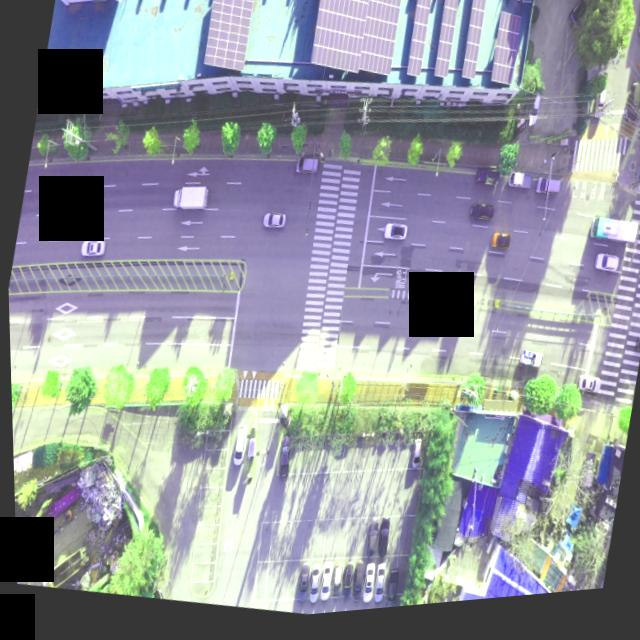car: (228, 430, 247, 473), (272, 440, 291, 483), (622, 94, 640, 138), (564, 9, 587, 43), (372, 527, 390, 567), (313, 566, 330, 608), (531, 186, 560, 210), (593, 265, 621, 289), (468, 209, 496, 233), (303, 570, 320, 609), (293, 570, 310, 609), (381, 575, 398, 613), (357, 569, 373, 609), (294, 161, 320, 185), (369, 571, 385, 610), (361, 527, 377, 564), (325, 569, 342, 603), (525, 103, 542, 137), (381, 228, 406, 251), (79, 240, 104, 263), (575, 384, 600, 407), (261, 215, 286, 237), (338, 569, 353, 605), (347, 568, 362, 602), (487, 239, 510, 261), (407, 446, 420, 477), (594, 104, 608, 132), (635, 11, 640, 48), (632, 349, 640, 367)
large_bus: (589, 225, 640, 261)
medium_truck: (41, 539, 92, 595), (170, 182, 209, 217)
small_truck: (576, 461, 596, 503), (505, 178, 533, 202), (517, 356, 543, 381), (474, 174, 499, 198)
